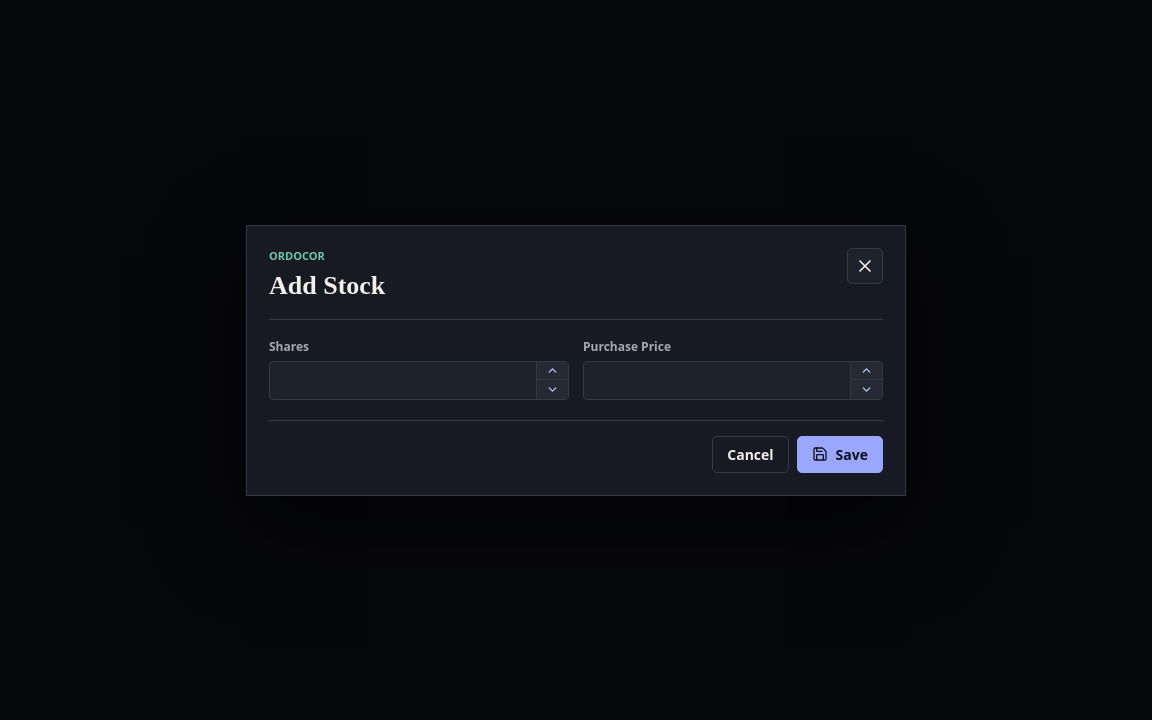
Test: resource forms › starts new number fields blank and uses themed step controls
Check: the number field labelled "Shares" is not empty, box [269, 360, 569, 400]
Check: the number field labelled "Purchase Price" is not empty, box [583, 360, 883, 400]
Step 1. Click the button named "Increase Shares" → (552, 371), box [537, 362, 568, 380]
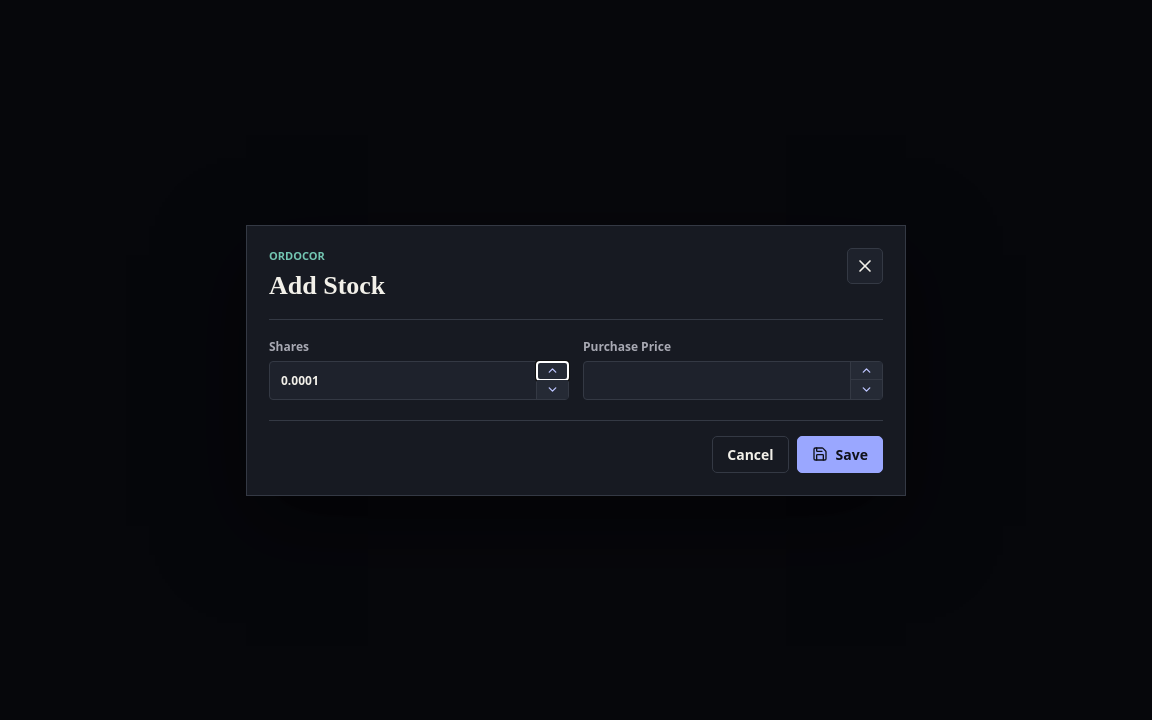
Check: the number field labelled "Shares" holds "0.0001", box [269, 360, 569, 400]
Step 2. Click the button named "Decrease Shares" → (552, 389), box [537, 380, 568, 398]
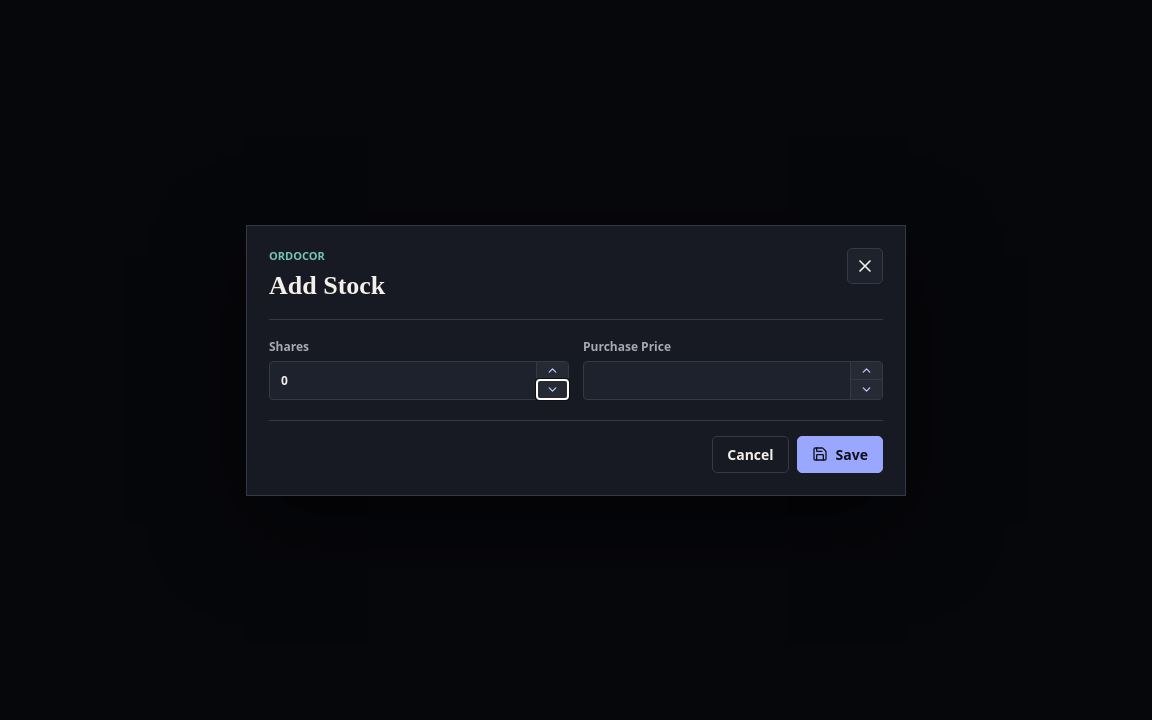
Check: the number field labelled "Shares" holds "0", box [269, 360, 569, 400]
